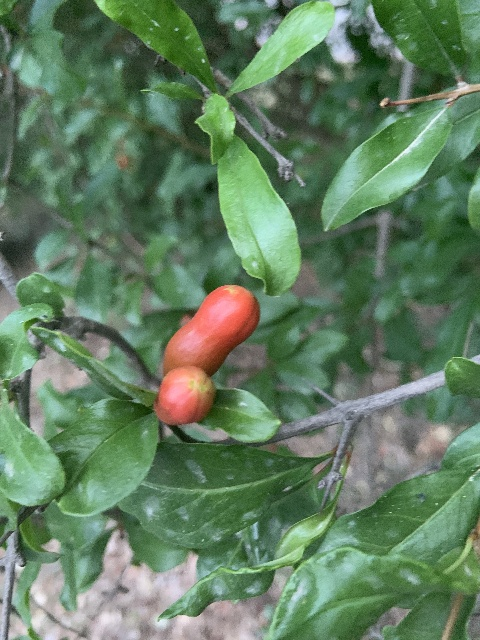bud: (162, 284, 260, 379), (155, 367, 215, 426)
